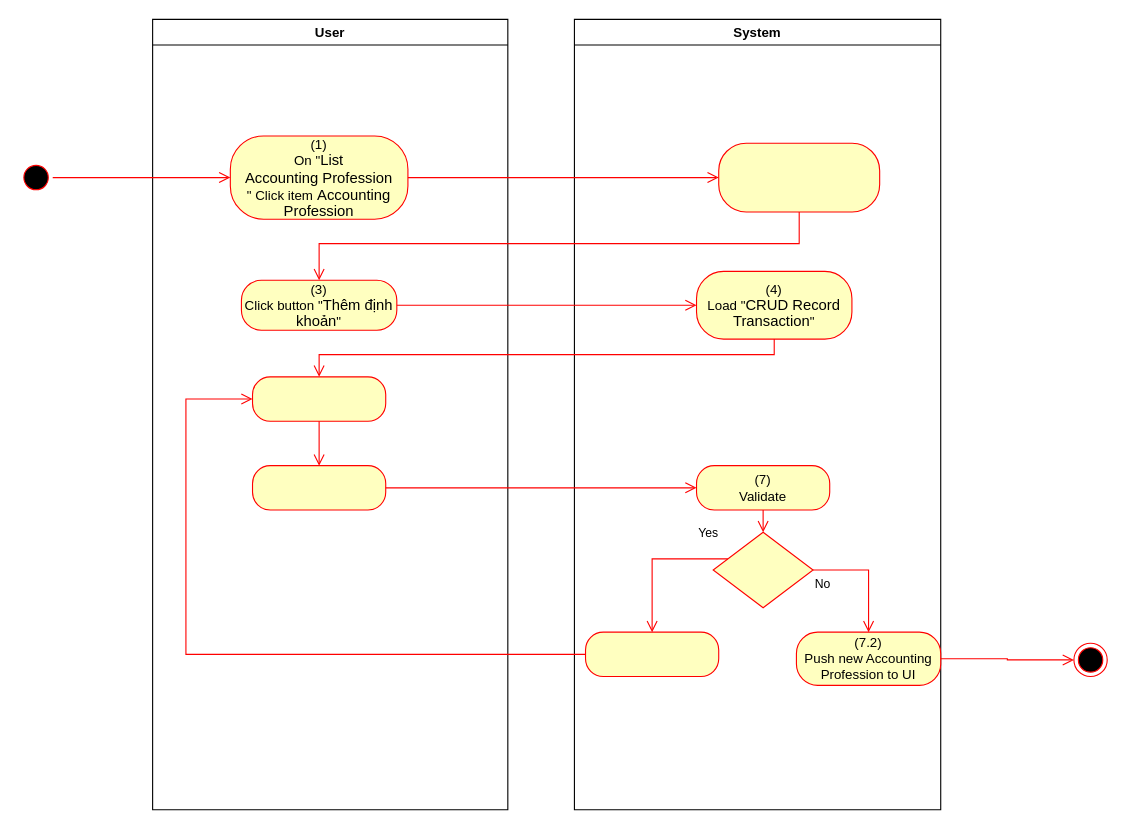
Image size: 1127x829. Some labels were removed from this diagram. Each missing label, with the centre of its shape:
(2) Load " CRUD Record Transaction ": [799,177]
(5) Giving input: [318,398]
(6) Click "Lưu": [318,487]
(7.1) Show MSG: [651,654]
